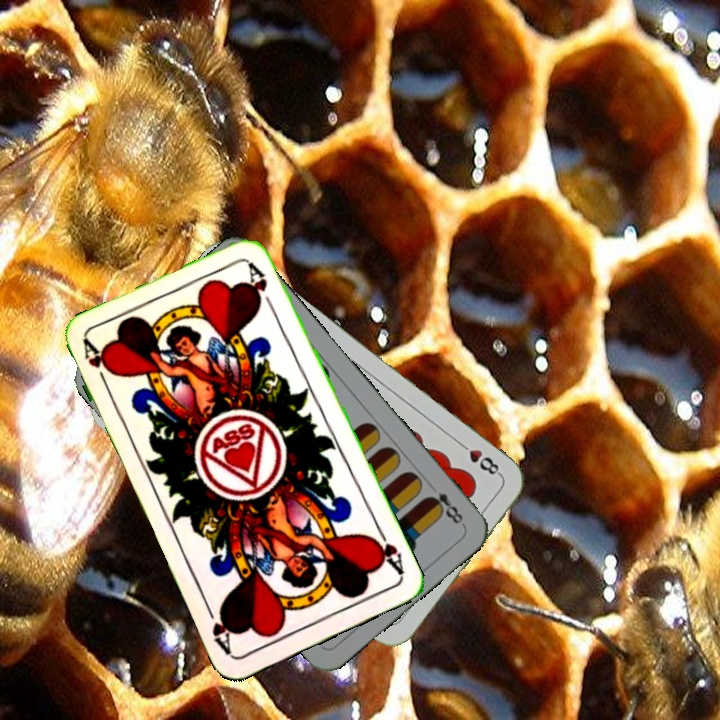E8: (423, 487, 467, 528)
H8: (454, 437, 504, 479)
HA: (366, 522, 407, 578), (79, 336, 115, 393)
